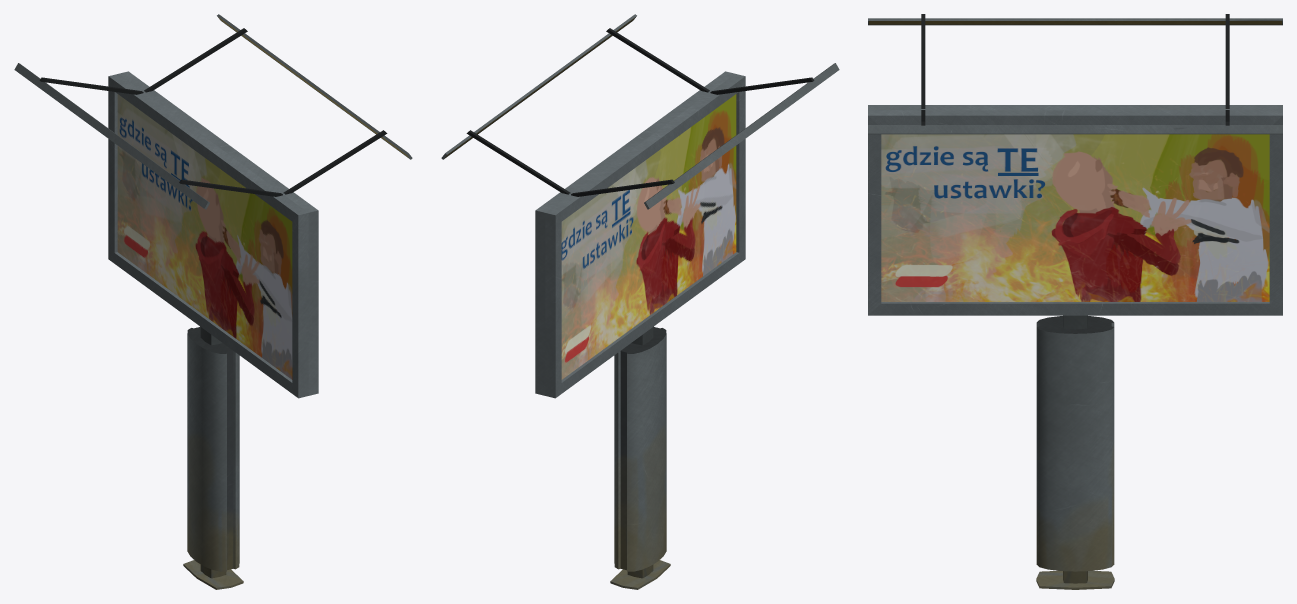
The model's file is billboard2.fbx.
The picture shows the model from 3 angles, left to right: view 1: azimuth 30°, elevation 25°; view 2: azimuth 150°, elevation 25°; view 3: azimuth 270°, elevation 25°; orthographic projection. The views are drawn at different scales.
Visible parts, largest first — view 1: billboard2_LOD0; view 2: billboard2_LOD0; view 3: billboard2_LOD0.
Part boxes in pixels (x1,y1,x2,y2): billboard2_LOD0: (14, 14, 412, 589); billboard2_LOD0: (441, 14, 839, 589); billboard2_LOD0: (868, 14, 1282, 589).
Size of what is drawn, in the model's own units: 270 by 583 by 427.
